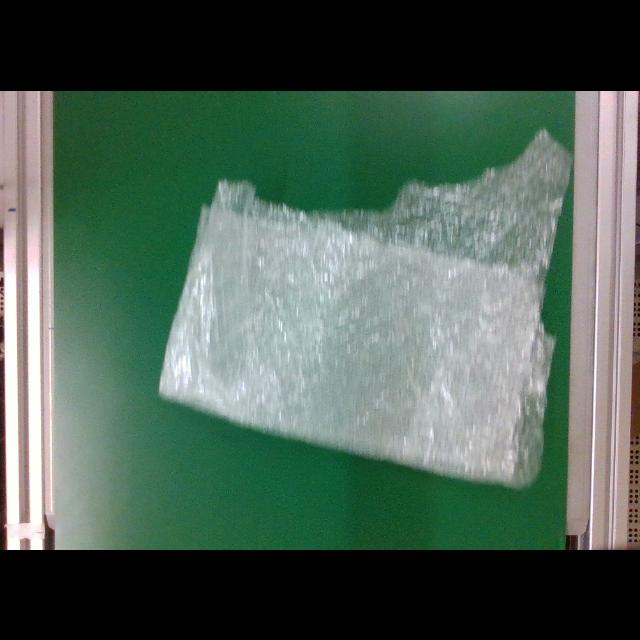scrap_plastic: (145, 119, 572, 491)
